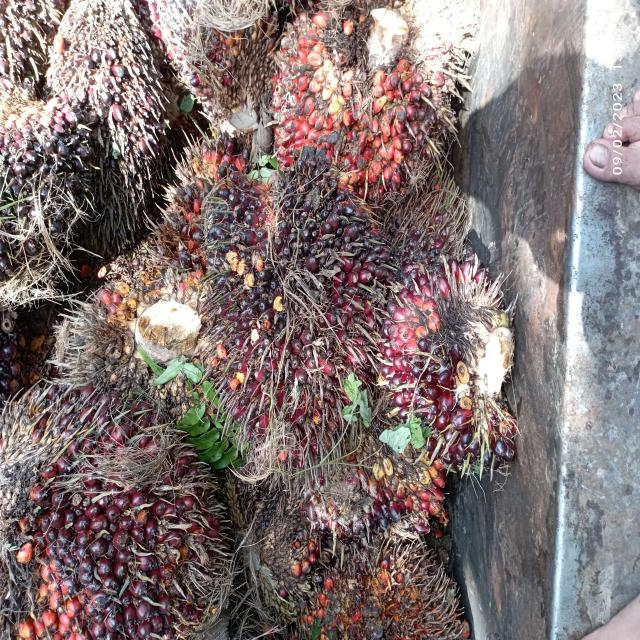fraksi 00: (0, 70, 102, 312), (50, 0, 172, 197)
fraksi 1: (190, 141, 382, 469), (0, 370, 219, 640), (374, 248, 532, 474)
fraksi 4: (259, 1, 442, 209)
